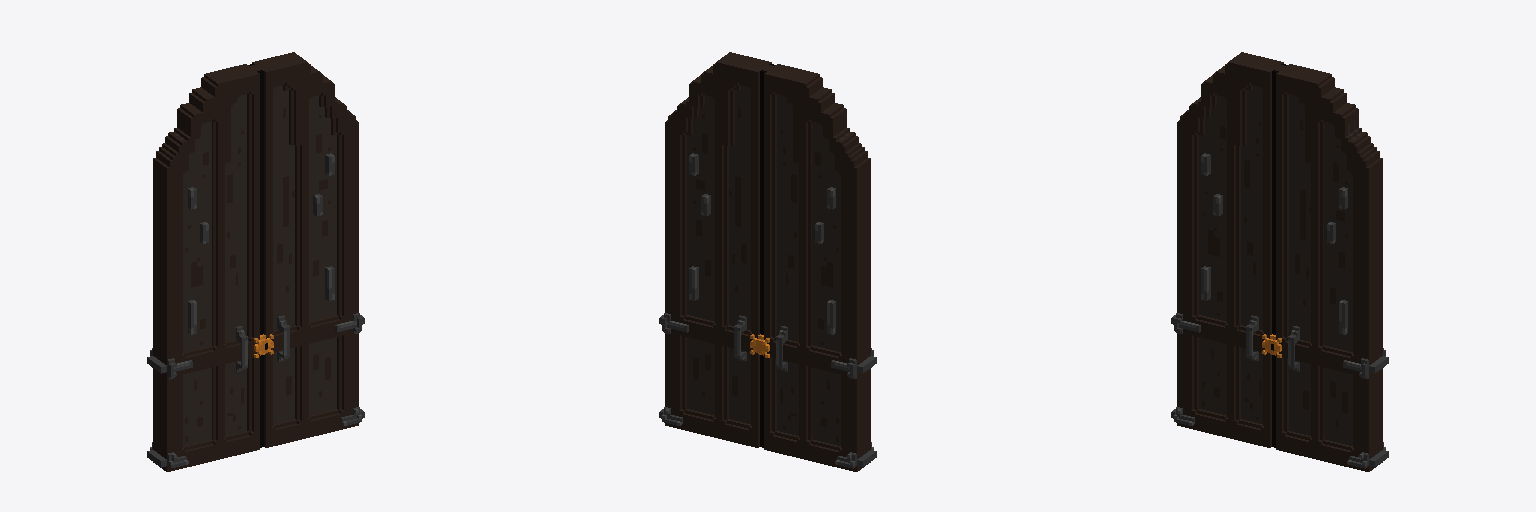
The picture shows the model from 3 angles: view 1: azimuth 30°, elevation 25°; view 2: azimuth 150°, elevation 25°; view 3: azimuth 330°, elevation 25°; orthographic projection.
Parts seen in each view (by area): view 1: object 1; view 2: object 1; view 3: object 1.
Boxes of the visible parts, box(x1,y1,x2,y2) form: object 1: box(147, 52, 364, 471); object 1: box(659, 52, 876, 471); object 1: box(1171, 52, 1388, 471).
Size of the model in its own units: 6.8 by 12 by 1.2.
1 materials, 1 textured.